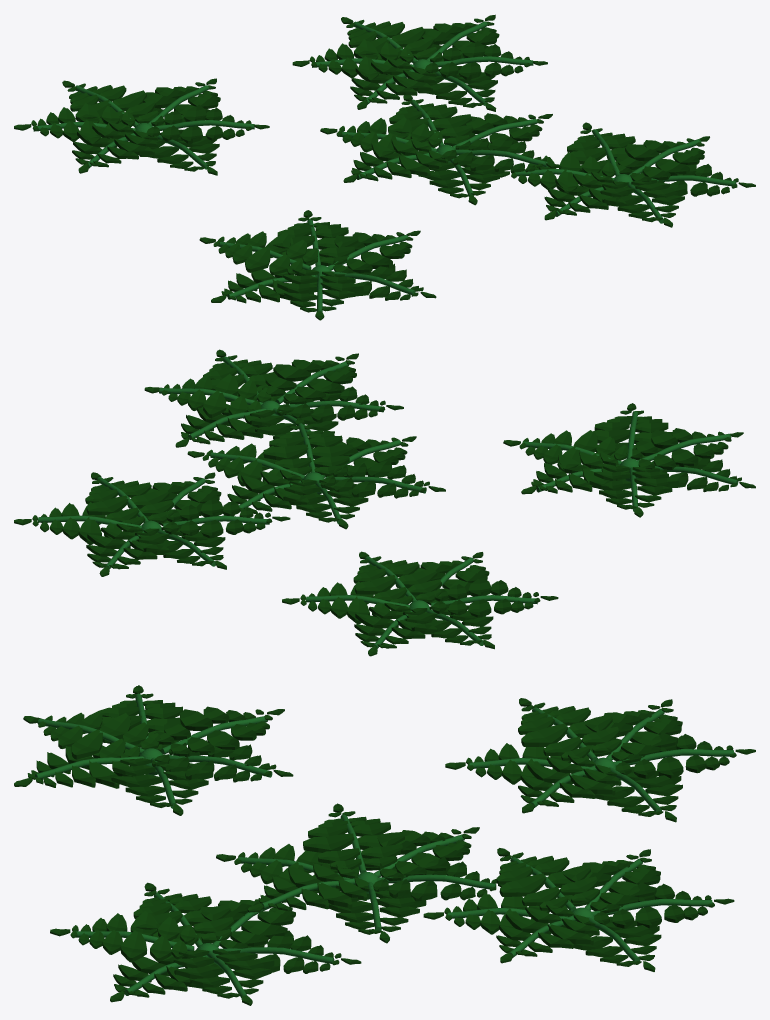
Rendered from Ferns High.fbx.
The picture shows the model from 3 angles, top to bottom: view 1: azimuth 30°, elevation 25°; view 2: azimuth 150°, elevation 25°; view 3: azimuth 270°, elevation 25°; orthographic projection. The views are drawn at different scales.
Parts seen in each view (by area): view 1: VineLeaf.034; view 2: VineLeaf.034; view 3: VineLeaf.034.
Boxes of the visible parts, <box> form: VineLeaf.034: <box>14,14,755,320</box>; VineLeaf.034: <box>14,349,755,656</box>; VineLeaf.034: <box>14,685,755,1005</box>.
Bounding box in the file's own units: 924 × 61.92 × 920.
